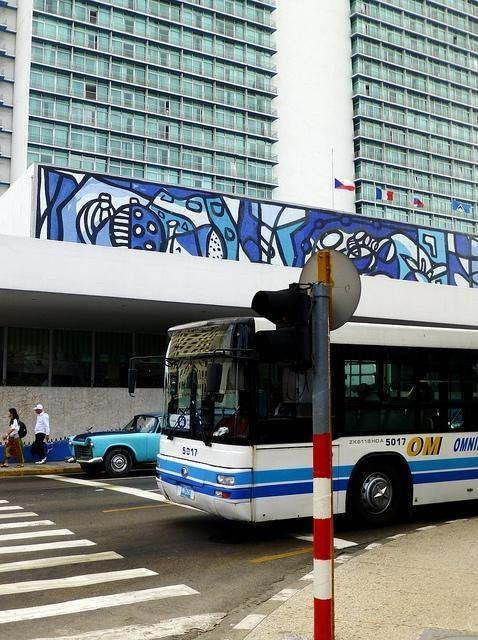bus: (154, 320, 478, 531)
car: (64, 414, 166, 478)
